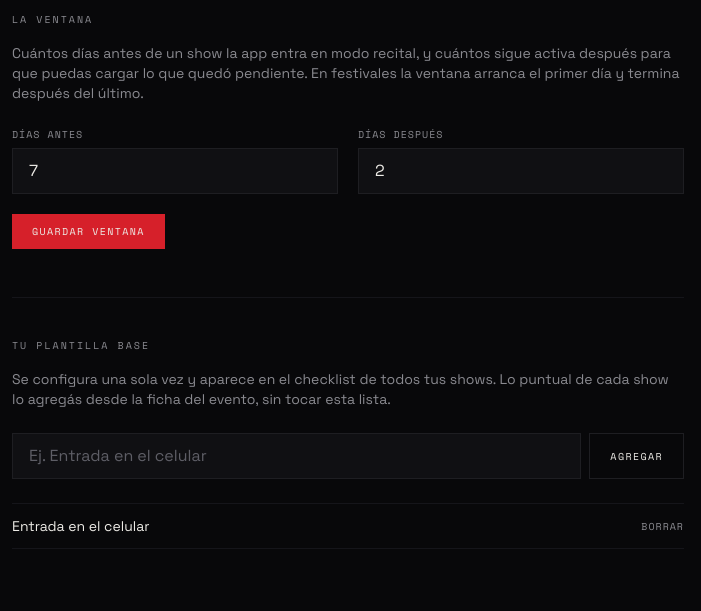
Test: ShowModeSettingsForm — la plantilla base › agrega un ítem a la plantilla y lo muestra sin recargar
In the field named "Nuevo ítem de la plantilla": (297, 456) left=12, top=433, right=581, bottom=479, type "Batería cargada"
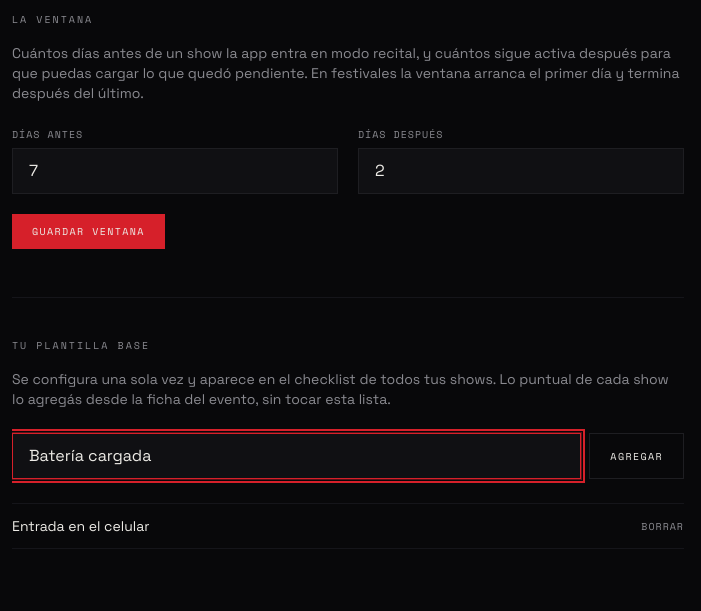
Click the button "Agregar": (637, 456) left=589, top=433, right=684, bottom=479
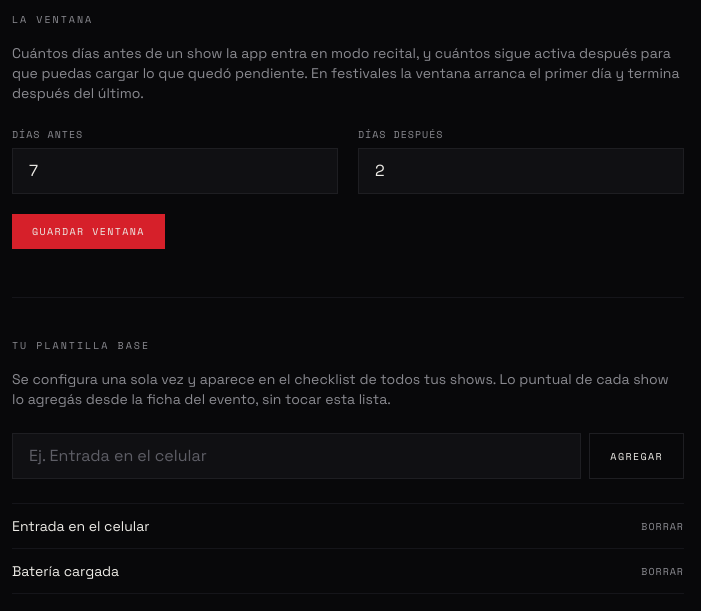
Expected: the text "Batería cargada" is shown, left=12, top=561, right=119, bottom=581
